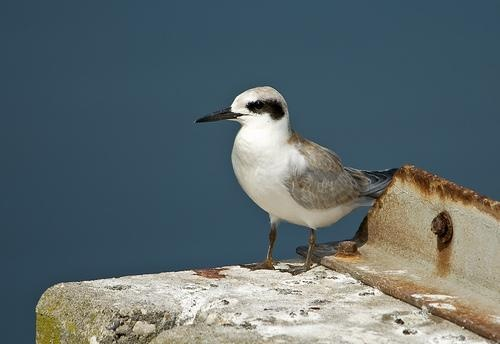bird: (192, 88, 423, 282)
